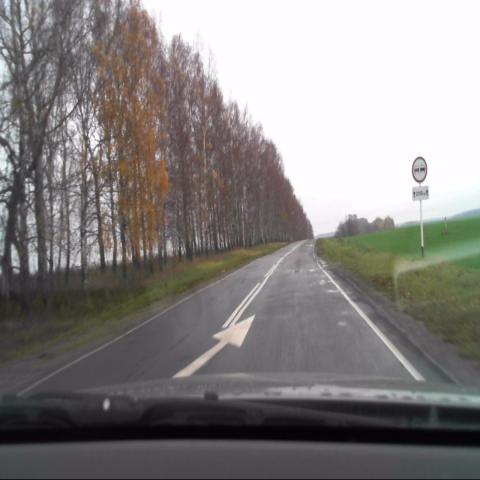8_2_1: (412, 184, 429, 201)
